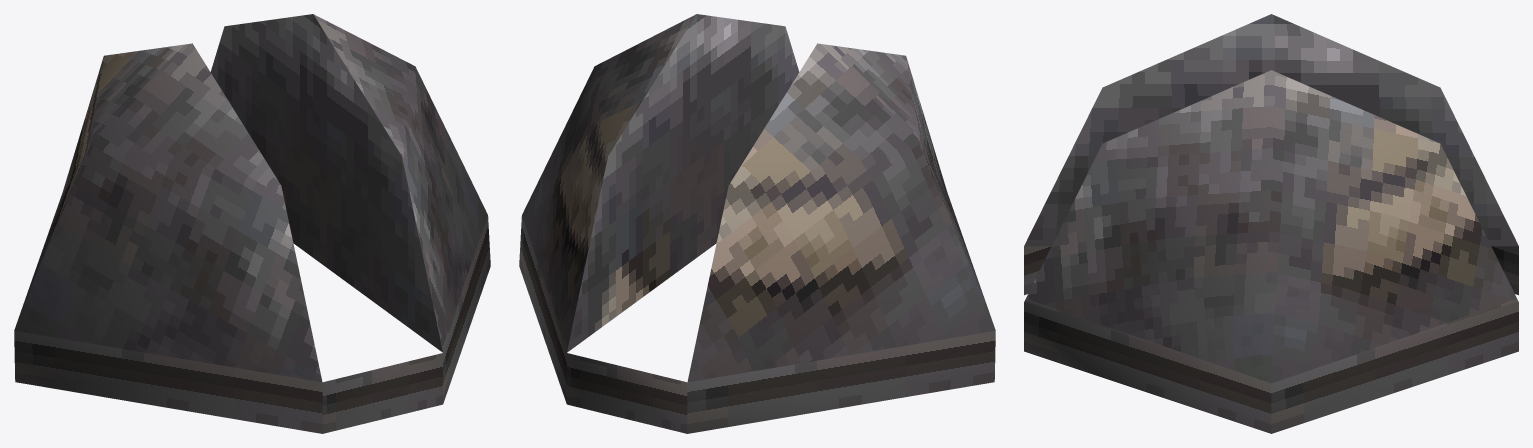
The model's file is kessel_mine_missileturret_base_s01_l3.fbx.
3 renders of one model, left to right at view 1: azimuth 30°, elevation 25°; view 2: azimuth 150°, elevation 25°; view 3: azimuth 270°, elevation 25°, orthographic. The views are drawn at different scales.
Visible parts, largest first — view 1: mesh_node; view 2: mesh_node; view 3: mesh_node.
Boxes of the visible parts, x1,y1,x2,y2 form: mesh_node: (14,14,490,433); mesh_node: (519,14,995,433); mesh_node: (1024,14,1518,433).
Size of the model in its own units: 3.66 by 2.17 by 3.46.
Materials: 1 (1 with a texture image).
